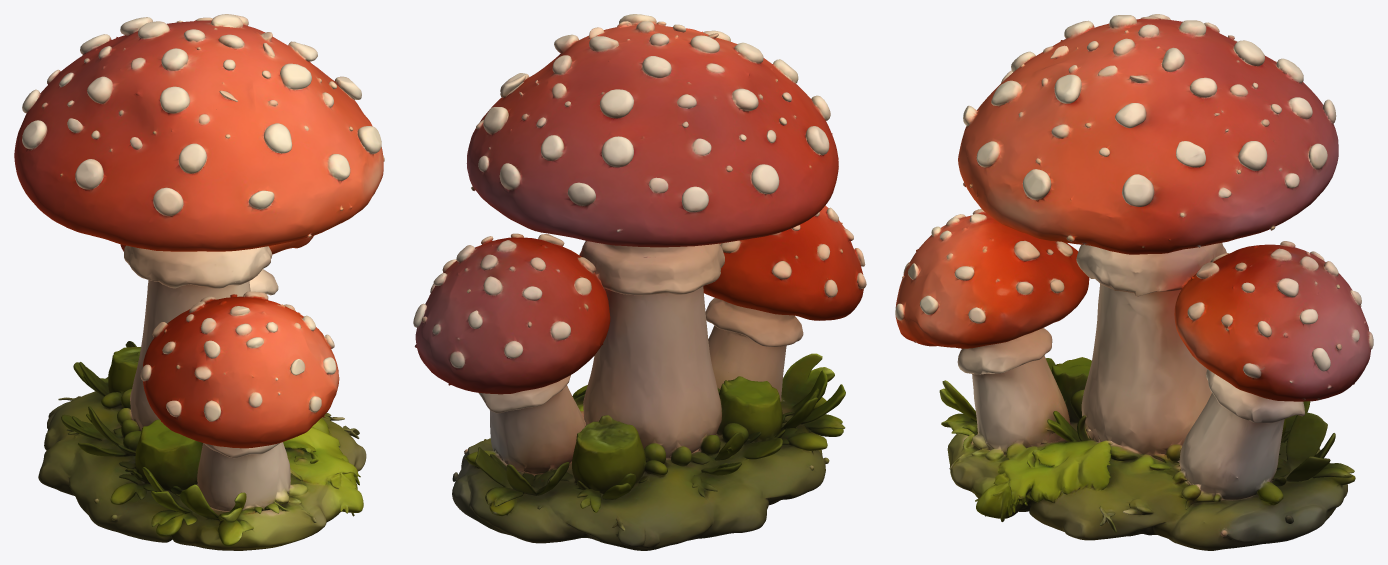
File: tripo.glb
3 renders of one model, left to right at view 1: azimuth 30°, elevation 25°; view 2: azimuth 150°, elevation 25°; view 3: azimuth 270°, elevation 25°, orthographic.
Visible parts, largest first — view 1: tripo_node_9d6f3613-877f-4916-9f0f-728d4ca4ba23; view 2: tripo_node_9d6f3613-877f-4916-9f0f-728d4ca4ba23; view 3: tripo_node_9d6f3613-877f-4916-9f0f-728d4ca4ba23.
Boxes of the visible parts, box(x1,y1,x2,y2) form: tripo_node_9d6f3613-877f-4916-9f0f-728d4ca4ba23: box(14, 14, 384, 550); tripo_node_9d6f3613-877f-4916-9f0f-728d4ca4ba23: box(413, 14, 866, 550); tripo_node_9d6f3613-877f-4916-9f0f-728d4ca4ba23: box(895, 14, 1373, 550).
Bounding box in the file's own units: 0.7685 × 1 × 0.9571.
1 material, 1 textured.
